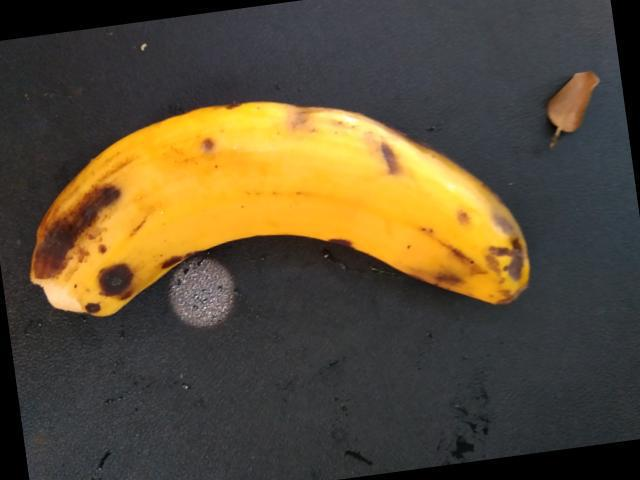overripe: (5, 88, 551, 344)
